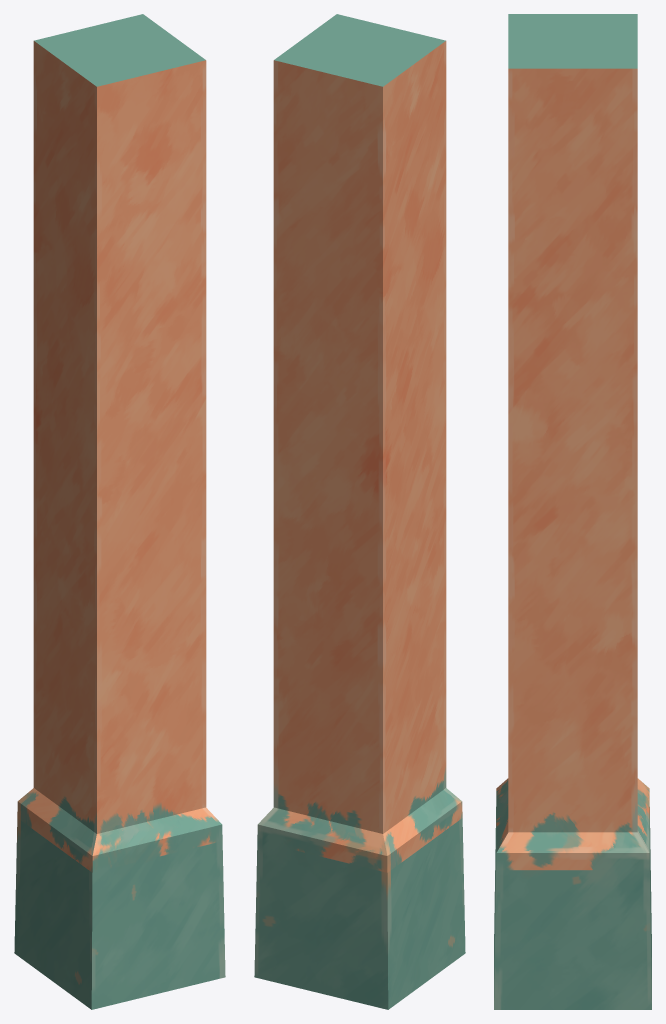
Rendered from corner.fbx.
3 views of the same model, side by side, from view 1: azimuth 30°, elevation 25°; view 2: azimuth 150°, elevation 25°; view 3: azimuth 270°, elevation 25° (orthographic). The views are drawn at different scales.
Visible parts, largest first — view 1: corner; view 2: corner; view 3: corner.
Boxes of the visible parts, box(x1,y1,x2,y2) form: corner: box(14, 14, 225, 1009); corner: box(254, 14, 465, 1009); corner: box(494, 14, 651, 1009).
Bounding box in the file's own units: 1.84 × 12 × 1.84.
1 material, 1 textured.
